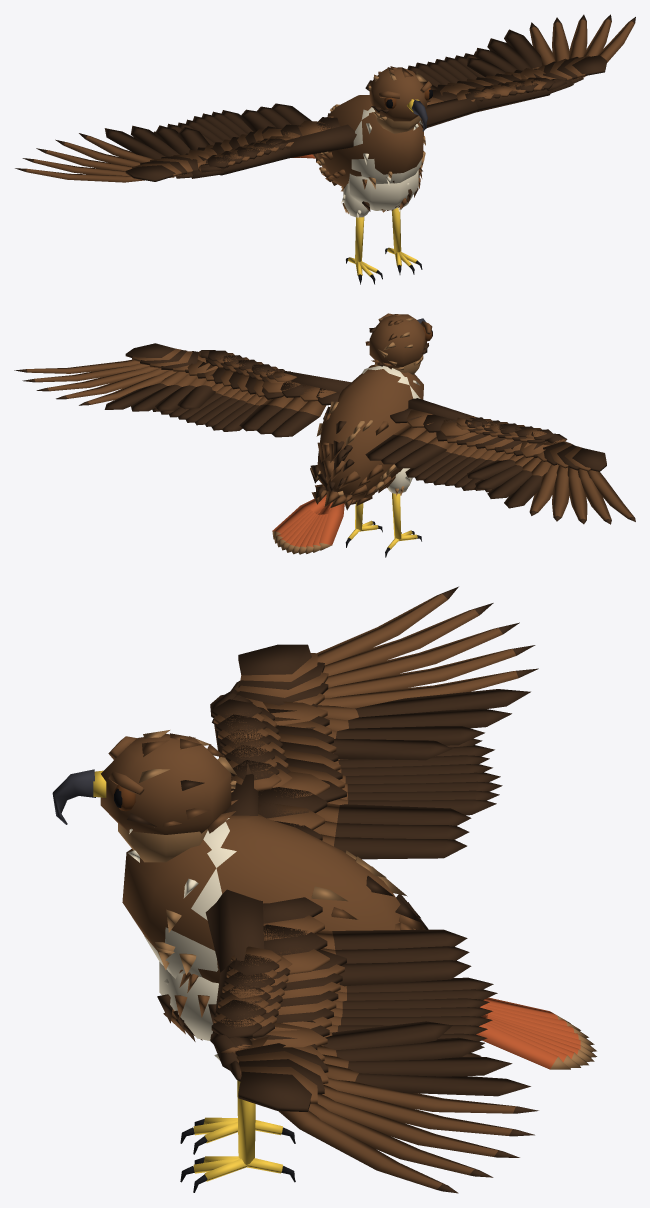
Rendered from redtail.glb.
The picture shows the model from 3 angles, top to bottom: view 1: azimuth 30°, elevation 25°; view 2: azimuth 150°, elevation 25°; view 3: azimuth 270°, elevation 25°; orthographic projection. The views are drawn at different scales.
Parts seen in each view (by area): view 1: hawk_body, hawk_head, hawk_wing_r, hawk_wing_l_fore, hawk_wing_r_fore, hawk_wing_l, hawk_wing_r_c2, hawk_wing_l_c2, hawk_leg_r, hawk_wing_r_c0, hawk_wing_l_c0, hawk_wing_r_p8 (+20 smaller); view 2: hawk_body, hawk_head, hawk_wing_r, hawk_wing_l, hawk_wing_r_c2, hawk_wing_l_c2, hawk_wing_r_c0, hawk_wing_l_c0, hawk_wing_r_fore, hawk_wing_l_fore, hawk_leg_r, hawk_wing_l_tert0 (+39 smaller); view 3: hawk_body, hawk_head, hawk_wing_l, hawk_wing_l_c2, hawk_wing_r_c2, hawk_wing_l_c0, hawk_wing_l_fore, hawk_wing_r_c0, hawk_wing_r_fore, hawk_wing_r, hawk_wing_l_p3, hawk_wing_r_p3 (+38 smaller).
Boxes of the visible parts, x1=… form: hawk_body: x1=315, y1=95, x2=425, y2=212; hawk_head: x1=368, y1=66, x2=432, y2=133; hawk_wing_r: x1=262, y1=117, x2=356, y2=158; hawk_wing_l_fore: x1=456, y1=78, x2=555, y2=112; hawk_wing_r_fore: x1=208, y1=136, x2=293, y2=175; hawk_wing_l: x1=420, y1=85, x2=478, y2=128; hawk_wing_r_c2: x1=125, y1=153, x2=207, y2=181; hawk_wing_l_c2: x1=534, y1=55, x2=606, y2=80; hawk_leg_r: x1=341, y1=183, x2=382, y2=284; hawk_wing_r_c0: x1=187, y1=126, x2=281, y2=163; hawk_wing_l_c0: x1=436, y1=68, x2=549, y2=90; hawk_wing_r_p8: x1=15, y1=168, x2=174, y2=182; hawk_body: x1=310, y1=364, x2=423, y2=505; hawk_head: x1=365, y1=313, x2=432, y2=374; hawk_wing_r: x1=390, y1=398, x2=477, y2=436; hawk_wing_l: x1=262, y1=371, x2=350, y2=405; hawk_wing_r_c2: x1=533, y1=441, x2=606, y2=471; hawk_wing_l_c2: x1=125, y1=343, x2=207, y2=372; hawk_wing_r_c0: x1=436, y1=431, x2=549, y2=457; hawk_wing_l_c0: x1=187, y1=359, x2=283, y2=399; hawk_wing_r_fore: x1=456, y1=416, x2=555, y2=440; hawk_wing_l_fore: x1=208, y1=350, x2=296, y2=381; hawk_leg_r: x1=385, y1=468, x2=421, y2=557; hawk_wing_l_tert0: x1=271, y1=401, x2=326, y2=437; hawk_body: x1=122, y1=815, x2=428, y2=1041; hawk_head: x1=52, y1=730, x2=237, y2=862; hawk_wing_l: x1=205, y1=889, x2=329, y2=974; hawk_wing_l_c2: x1=235, y1=1036, x2=328, y2=1111; hawk_wing_r_c2: x1=236, y1=644, x2=328, y2=711; hawk_wing_l_c0: x1=252, y1=950, x2=346, y2=1047; hawk_wing_l_fore: x1=211, y1=946, x2=281, y2=1038; hawk_wing_r_c0: x1=263, y1=701, x2=346, y2=802; hawk_wing_r_fore: x1=211, y1=699, x2=281, y2=791; hawk_wing_r: x1=224, y1=771, x2=329, y2=840; hawk_wing_l_p3: x1=325, y1=1063, x2=530, y2=1096; hawk_wing_r_p3: x1=317, y1=689, x2=530, y2=720.
Bounding box in the file's own units: 1.42 × 0.4675 × 0.5401.
